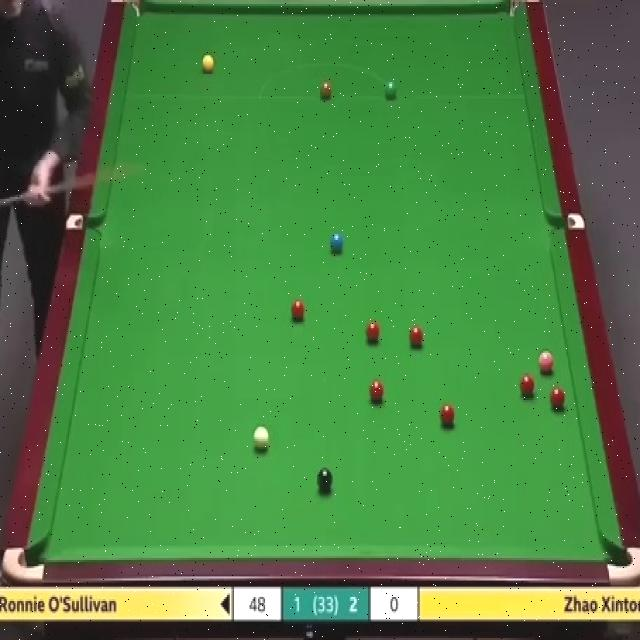black-ball: (316, 465, 332, 492)
blue-ball: (331, 232, 343, 255)
brown-ball: (320, 82, 333, 100)
green-ball: (385, 81, 397, 100)
pink-ball: (538, 349, 556, 376)
red-ball: (548, 384, 566, 410), (438, 403, 456, 429), (409, 323, 425, 348), (370, 380, 385, 405), (365, 321, 380, 345), (520, 375, 536, 397), (292, 298, 306, 320)
white-ball: (252, 422, 270, 451)
yellow-ball: (201, 55, 216, 76)
